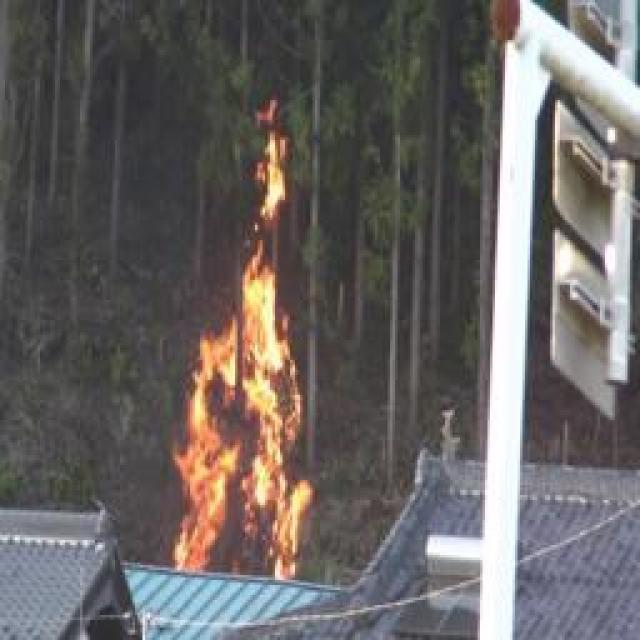Fire: (170, 250, 317, 579), (223, 95, 303, 215)
